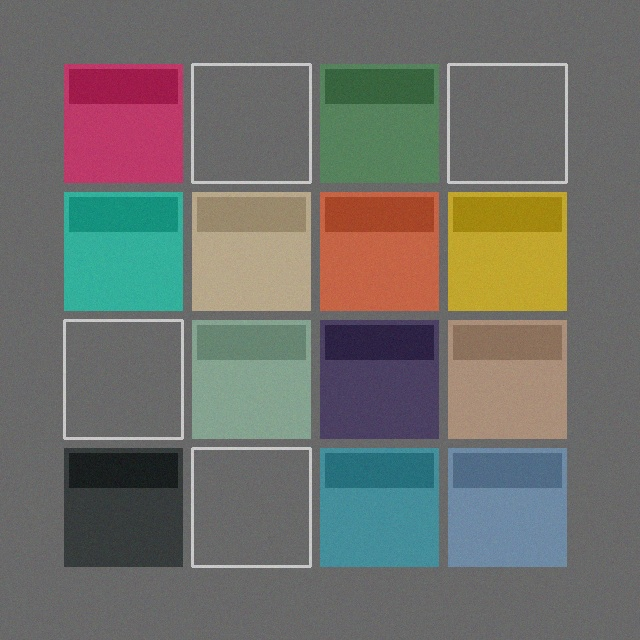space-empty: (192, 64, 310, 182), (448, 64, 566, 182), (64, 320, 182, 438), (192, 448, 310, 566)
space-occupied: (64, 64, 182, 182), (320, 64, 438, 182), (64, 192, 182, 310), (192, 192, 310, 310), (320, 192, 438, 310), (448, 192, 566, 310), (192, 320, 310, 438), (320, 320, 438, 438), (448, 320, 566, 438), (64, 448, 182, 566), (320, 448, 438, 566), (448, 448, 566, 566)
